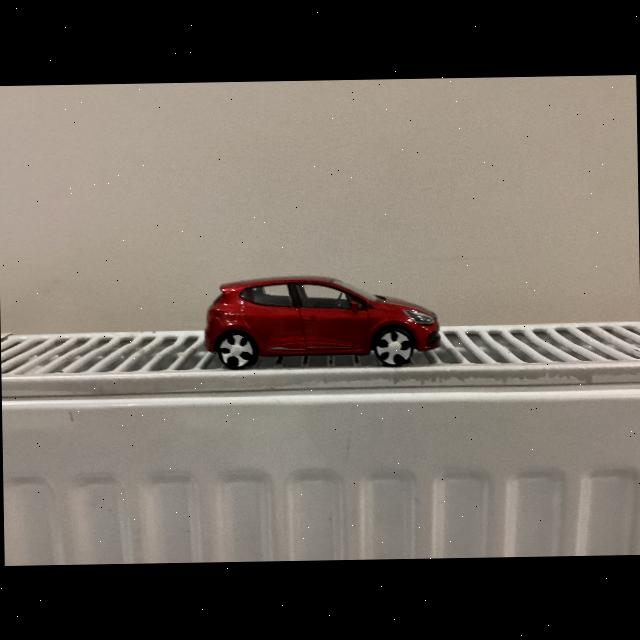Yanlis_Jant: (374, 330, 413, 366), (217, 332, 254, 367)
